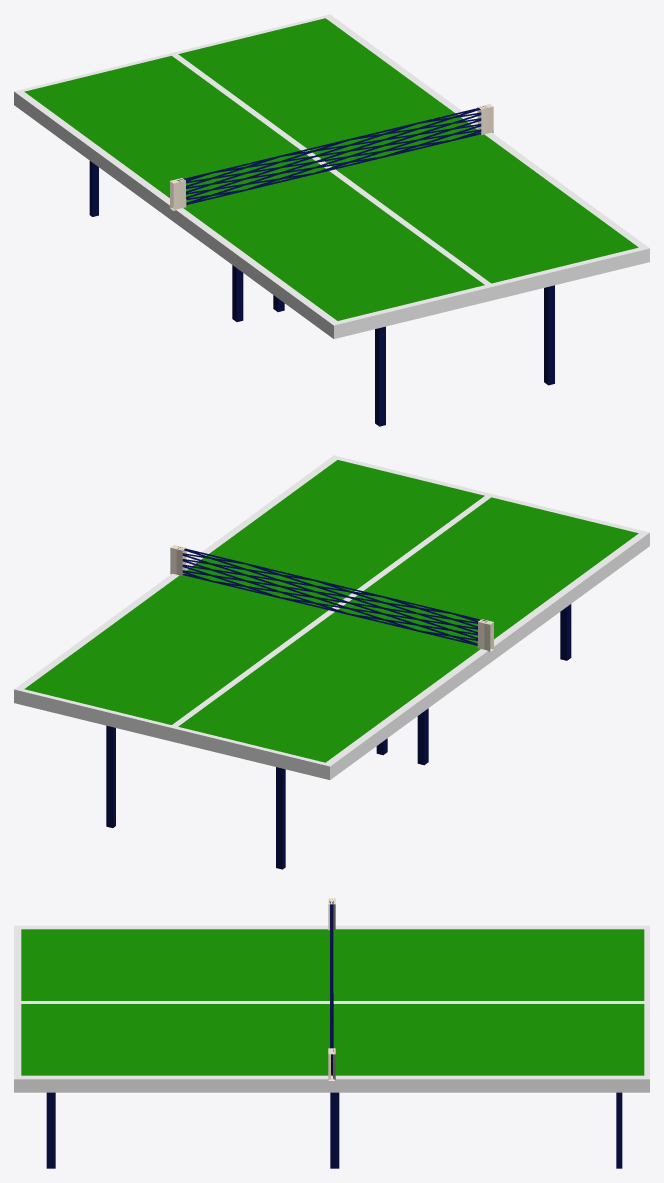
File: TableTennisTable.fbx
3 renders of one model, top to bottom at view 1: azimuth 30°, elevation 25°; view 2: azimuth 150°, elevation 25°; view 3: azimuth 270°, elevation 25°, orthographic.
Parts seen in each view (by area): view 1: TableTennis; view 2: TableTennis; view 3: TableTennis.
Boxes of the visible parts, x1=… form: TableTennis: x1=14, y1=14, x2=649, y2=426; TableTennis: x1=14, y1=455, x2=649, y2=869; TableTennis: x1=14, y1=898, x2=649, y2=1168.
Size of the model in its own units: 762 by 353 by 1319.
